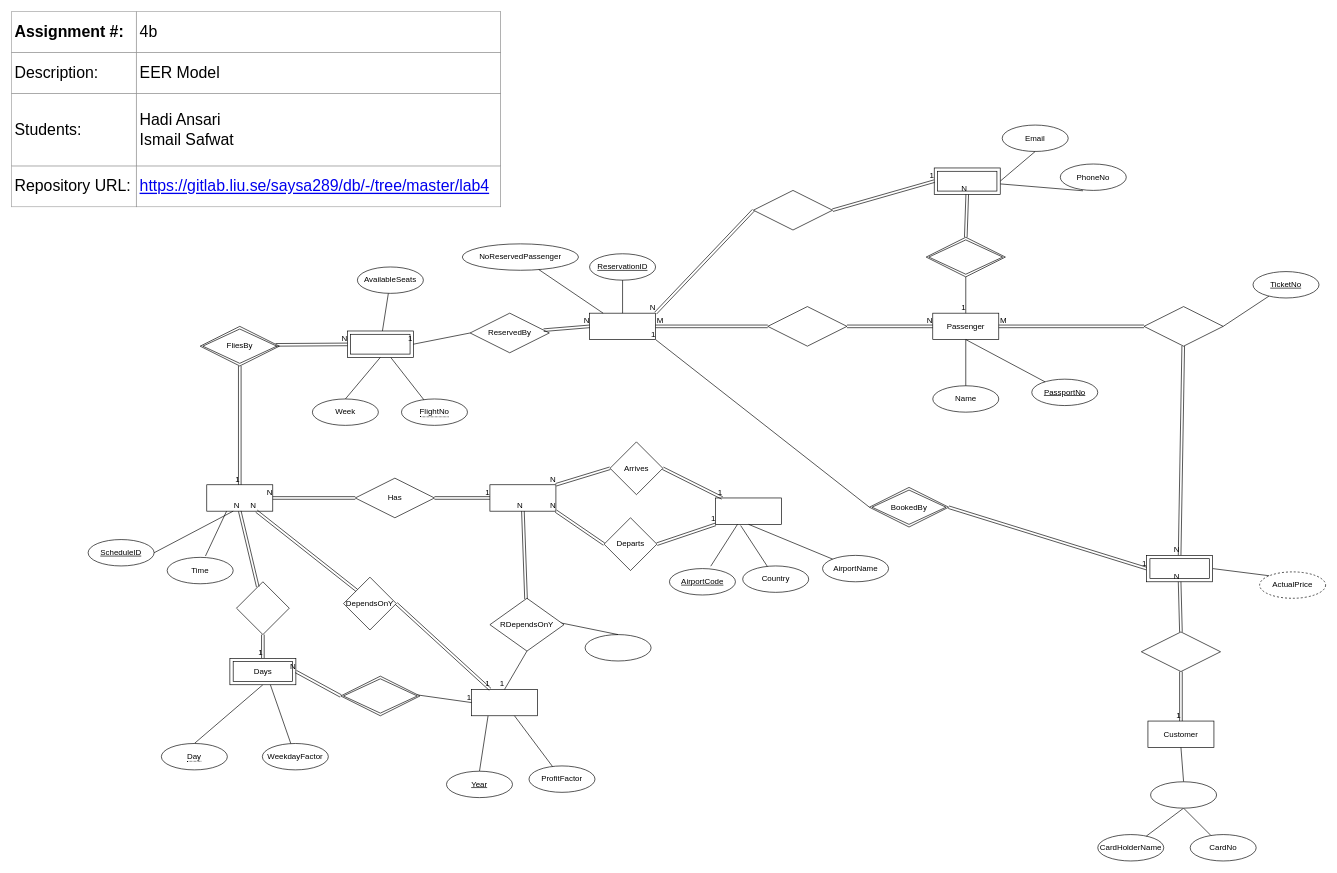
This 1337x873 diagram has some shape labels left out. The centre of each missing label's shape, as x and y in pixels:
Airport: point 748,510
BookedFor: point 1183,326
Booking: point 1179,568
ContactPerson: point 967,180
CreditCard: point 1183,794
DependsOn: point 380,696
DependsOnD: point 262,608
Flight: point 380,343
Is: point 965,257
PaysBy: point 1181,651
Reservation: point 622,326
ReservedFor: point 807,326
Route: point 522,497
RoutePrice: point 617,647
Weekly_Schedule: point 239,497
Years: point 504,702
